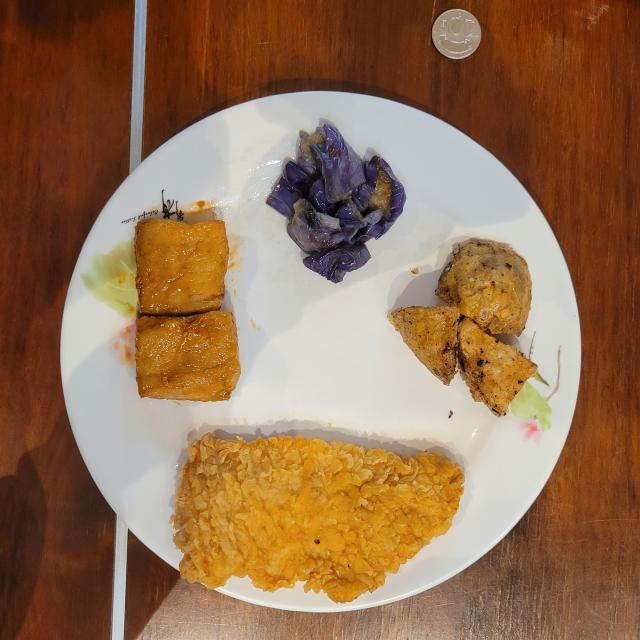coin: (431, 9, 481, 59)
creamy tofu: (135, 219, 241, 401)
fried chicken cutlet: (171, 434, 464, 602)
fried potato: (389, 241, 538, 416)
